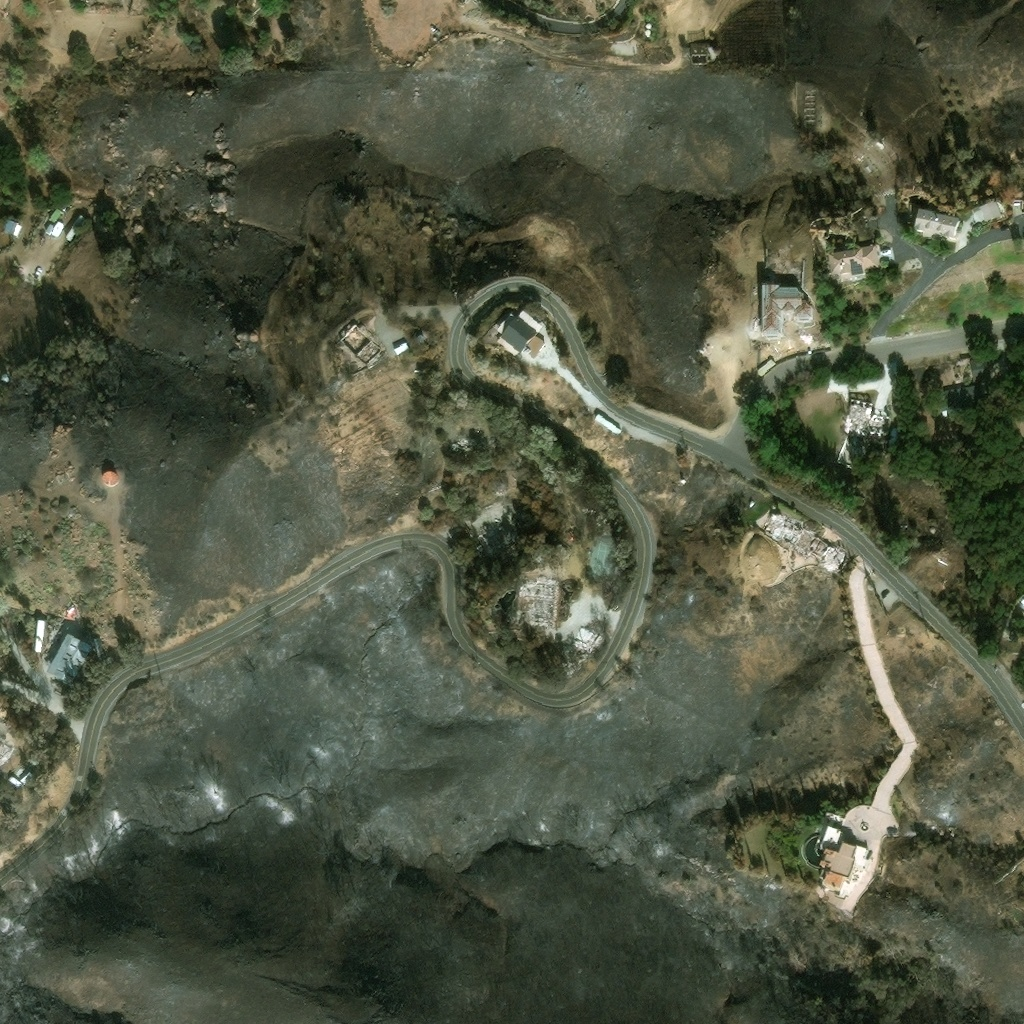0 no-damage: (45, 630, 96, 686), (494, 308, 543, 356), (825, 244, 880, 278), (817, 842, 855, 889), (944, 380, 993, 412), (911, 208, 957, 238), (970, 199, 1001, 222), (592, 412, 621, 434), (64, 212, 86, 240), (821, 824, 842, 848), (968, 357, 988, 380), (753, 357, 775, 377), (42, 218, 65, 236), (9, 761, 30, 780), (33, 618, 44, 650), (2, 217, 20, 234), (392, 341, 409, 355), (103, 470, 118, 485), (642, 22, 650, 37), (747, 498, 755, 506), (678, 476, 686, 484)
1 minor-damage: (760, 283, 800, 336), (911, 821, 933, 836), (0, 371, 9, 381)
2 major-damage: (689, 46, 706, 62)
3 destroyed: (762, 509, 850, 571), (334, 319, 383, 367), (474, 517, 519, 558), (522, 575, 557, 622), (843, 400, 888, 435), (569, 622, 600, 653), (451, 438, 471, 449)
4 un-classified: (0, 734, 10, 760)
